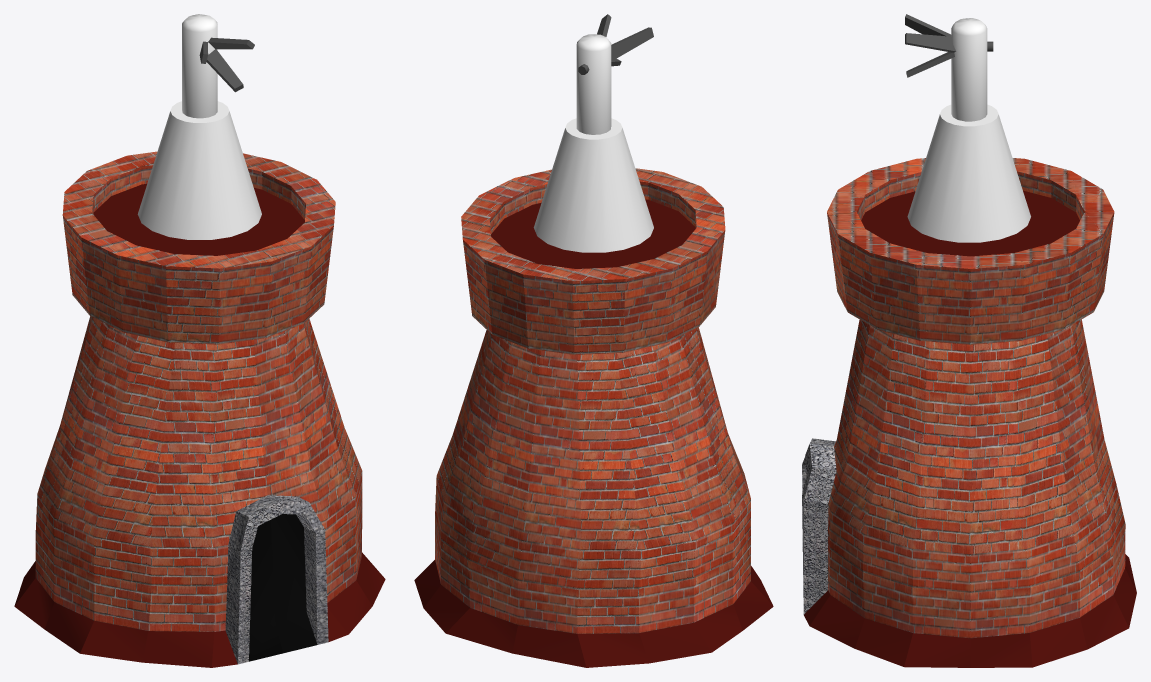
File: 二階塔雷射.FBX
3 renders of one model, left to right at view 1: azimuth 30°, elevation 25°; view 2: azimuth 150°, elevation 25°; view 3: azimuth 270°, elevation 25°, orthographic. The views are drawn at different scales.
Visible parts, largest first — view 1: 基礎塔, 雷射; view 2: 基礎塔, 雷射; view 3: 基礎塔, 雷射.
Boxes of the visible parts, x1,y1,x2,y2 form: 基礎塔: (14,151,385,667); 雷射: (137,14,261,239); 基礎塔: (414,168,773,667); 雷射: (533,14,653,252); 基礎塔: (802,158,1136,667); 雷射: (905,14,1030,242).
Bounding box in the file's own units: 34.98 × 62.09 × 33.
6 materials, 2 textured.
